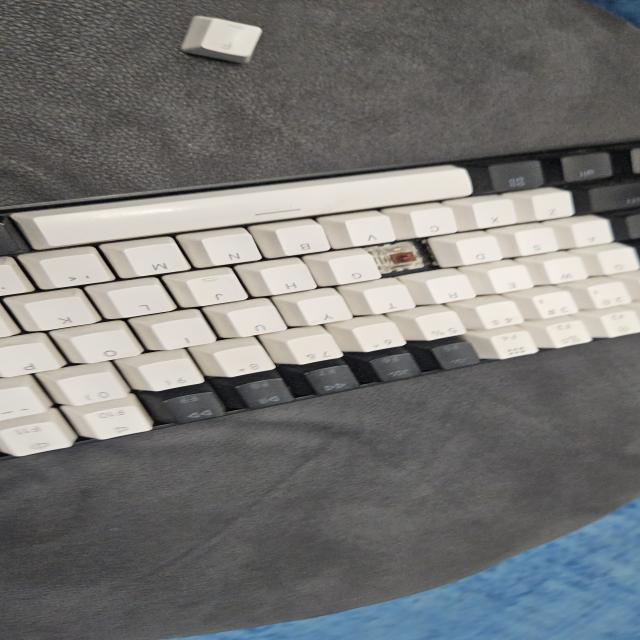C: (381, 245, 419, 270)
